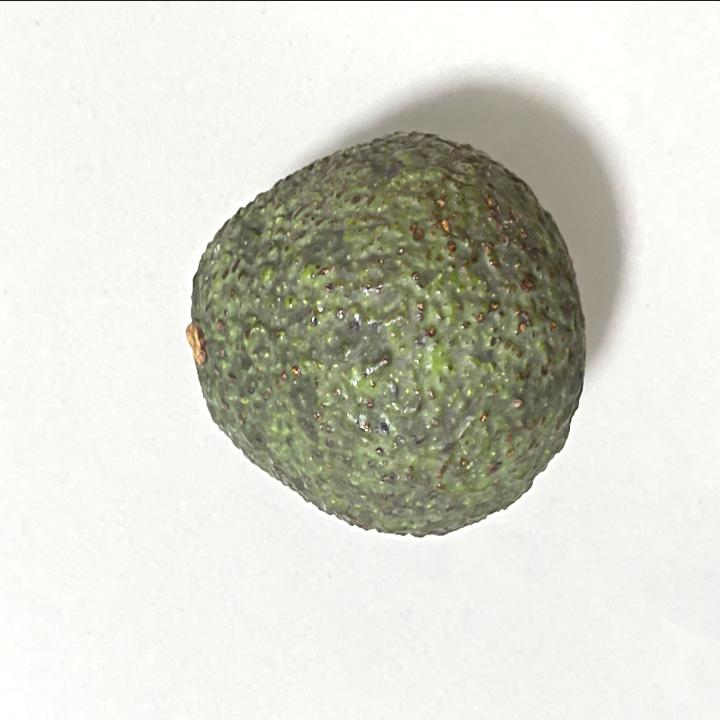Level1: (168, 121, 596, 559)
